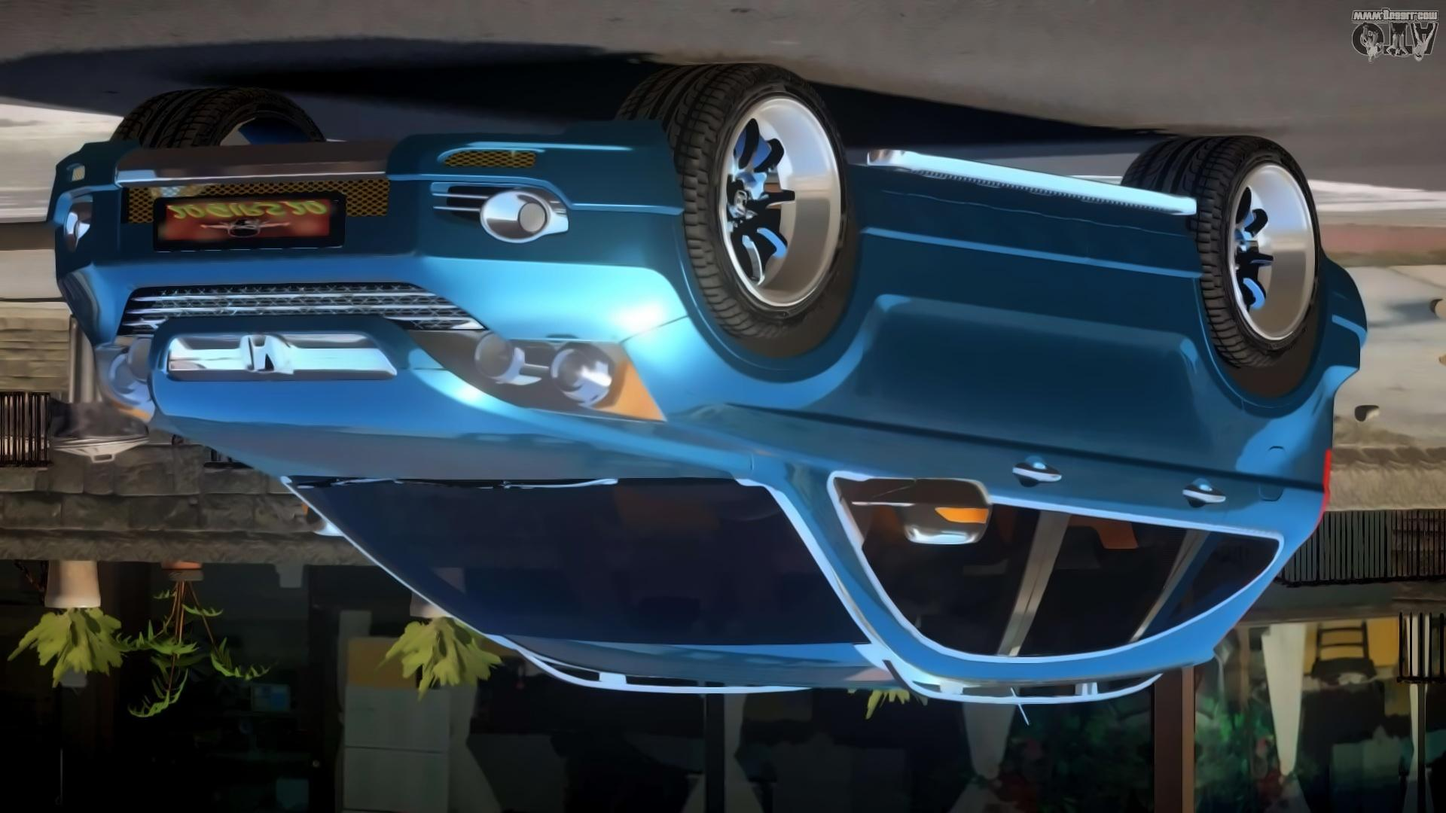Car hood: (128, 368, 761, 492)
Driver-s door - -F-R-: (840, 119, 1082, 693)
Fender - -F-R-: (620, 138, 896, 532)
Fender - -R-R-: (1171, 286, 1354, 522)
Front bumper: (45, 126, 694, 308)
Headlight - -L-: (92, 336, 163, 428)
Headlight - -R-: (419, 325, 666, 425)
Passenger-s door - -R-R-: (980, 158, 1221, 709)
Side bumper - -R-: (837, 133, 1200, 269)
Side mirror - -R-: (840, 476, 990, 547)
